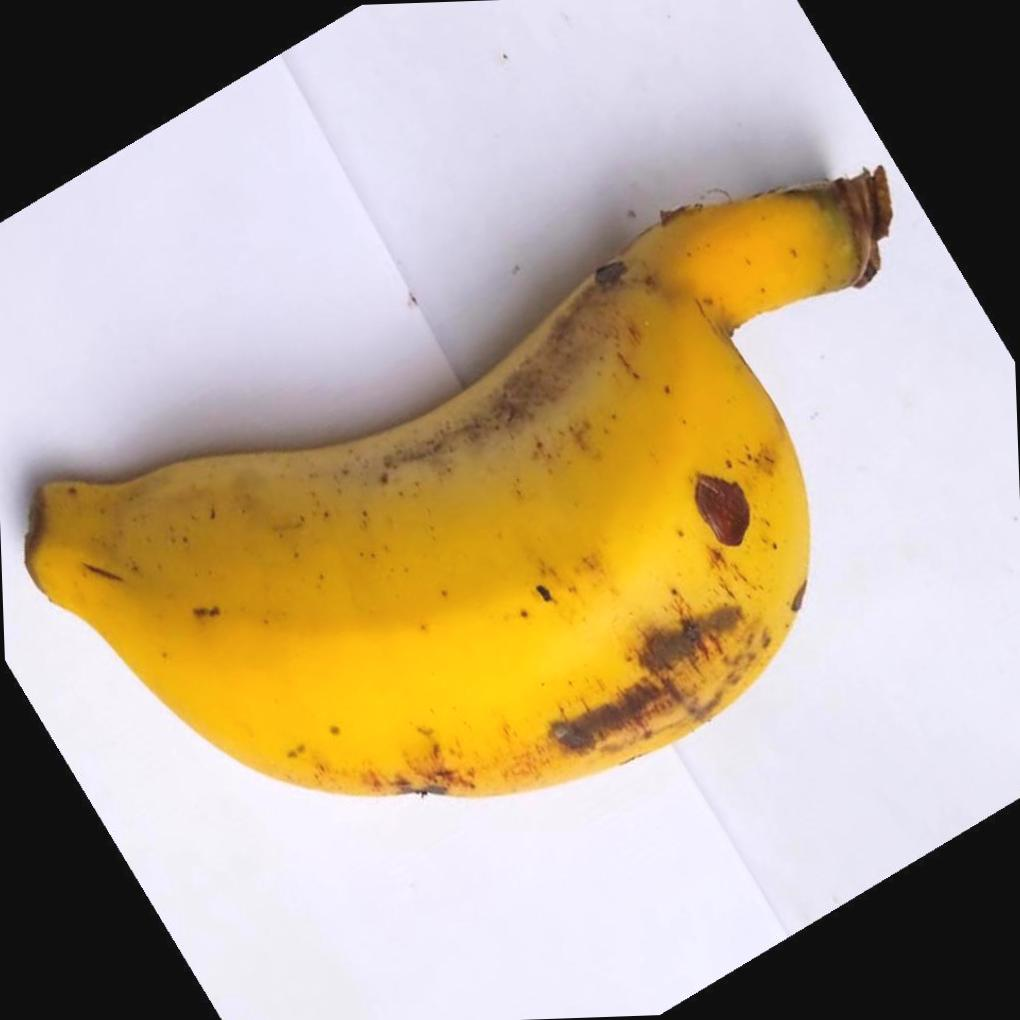Banana Ripe: (22, 174, 902, 872)
